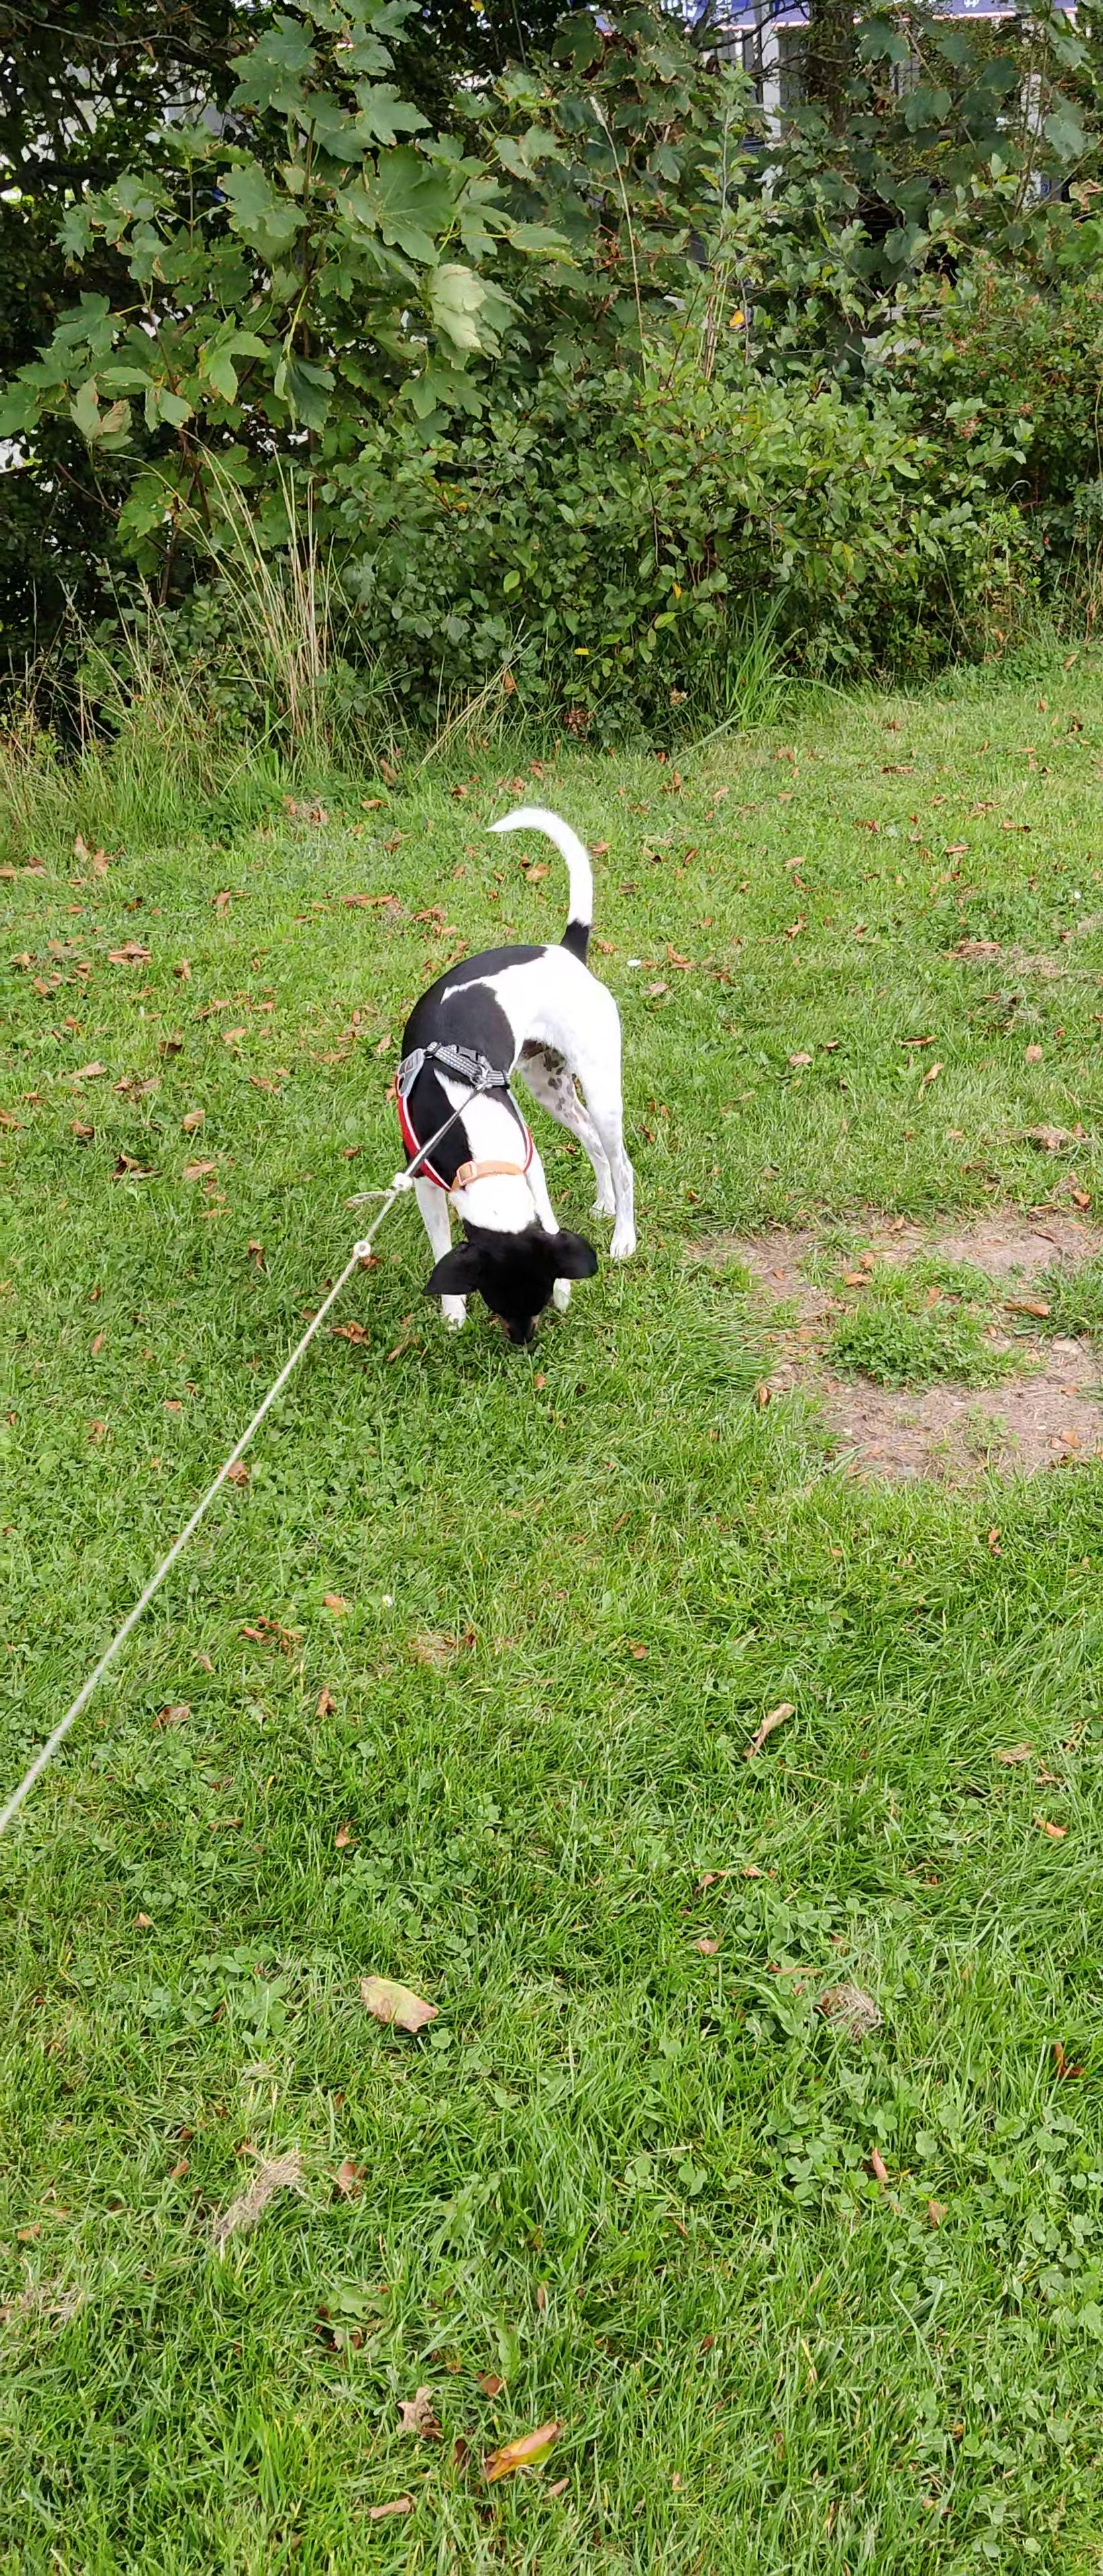Dog: (381, 797, 649, 1362)
